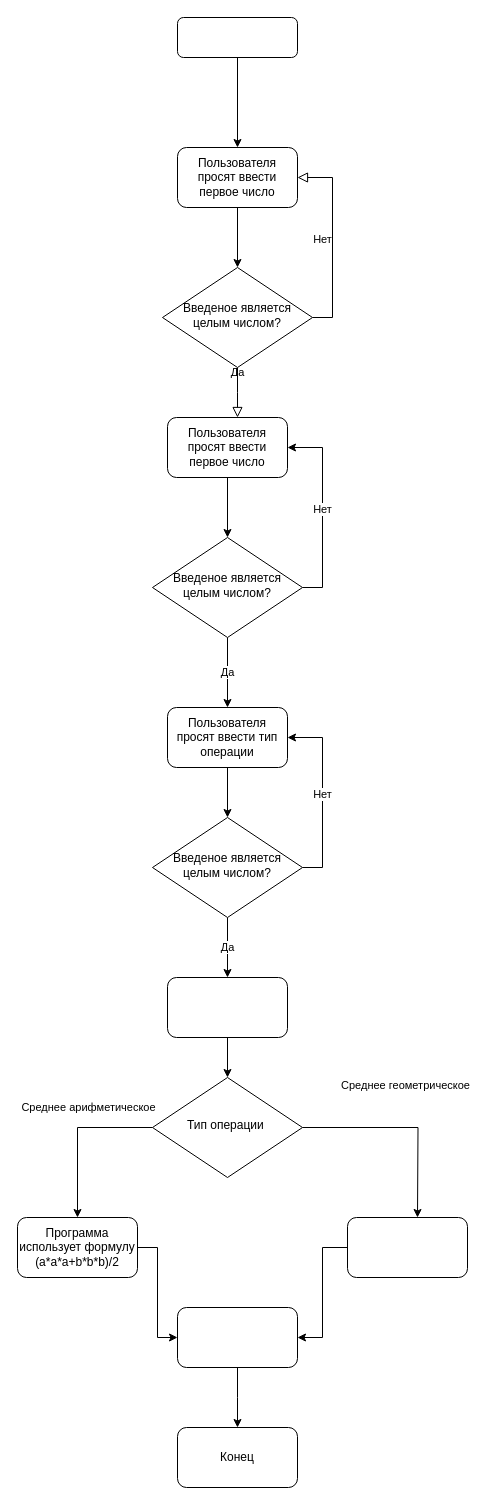
This 487x1505 diagram has some shape labels left out. Each missing label, with the box of its shape:
Пользователь начинает работу: (176, 16, 298, 58)
Программа использует формулу a+b/2: (176, 1306, 298, 1368)
Программа использует формулу sqrt(abs(a)*abs(b)): (346, 1216, 468, 1278)
Программа обрабатывает запрос: (166, 976, 288, 1038)
